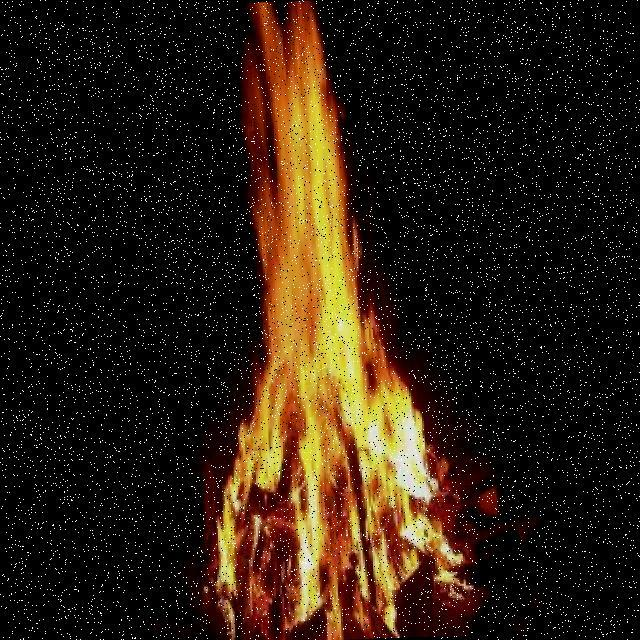Fire: (159, 0, 487, 640)
